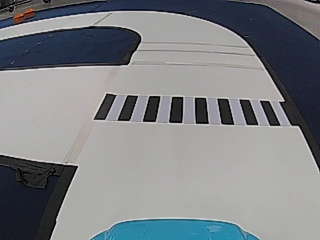CrossWalk: (90, 92, 285, 127)
